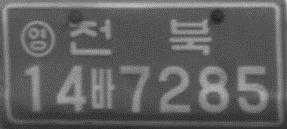1: (21, 63, 51, 112)
2: (157, 65, 192, 113)
4: (55, 64, 86, 112)
5: (236, 64, 269, 114)
7: (118, 63, 149, 112)
8: (197, 65, 230, 114)
바: (89, 67, 116, 110)
영: (19, 19, 55, 59)
전북_D: (66, 18, 212, 57)
